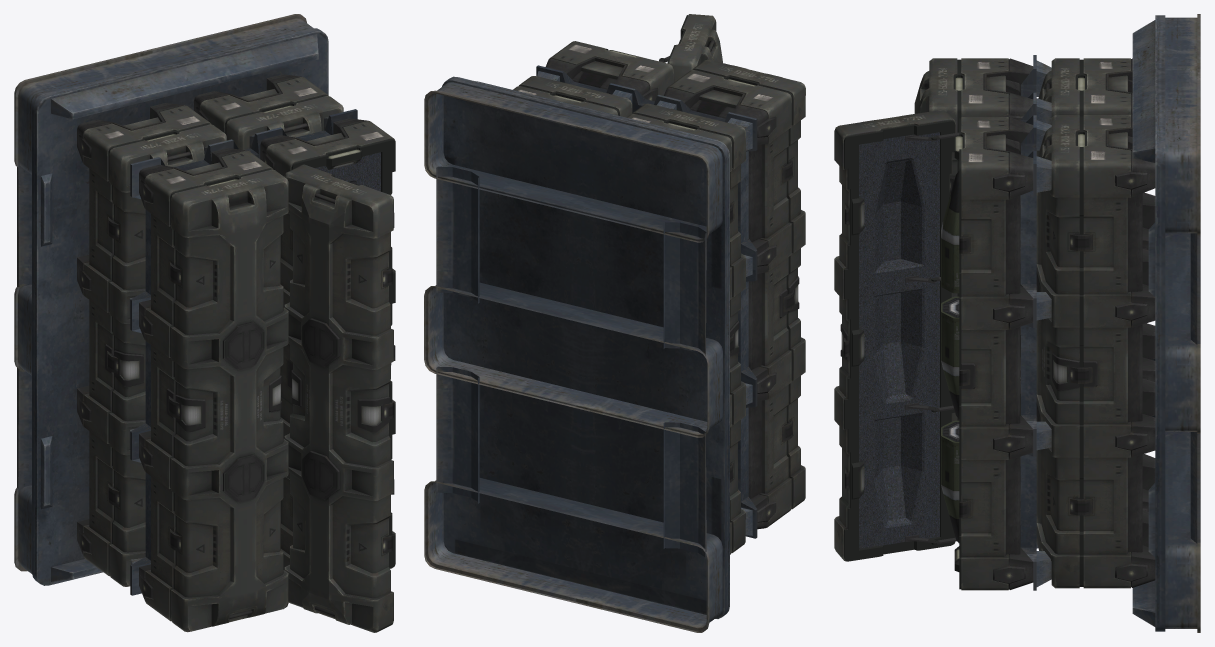
The model's file is p_glo_bomb_stack_LOD0.obj.
3 renders of one model, left to right at view 1: azimuth 30°, elevation 25°; view 2: azimuth 150°, elevation 25°; view 3: azimuth 270°, elevation 25°, orthographic. The views are drawn at different scales.
Parts seen in each view (by area): view 1: mtl_p_glo_bomb_stack_01, mtl_p_glo_bomb_stack_06, mtl_p_glo_bomb_stack_04; view 2: mtl_p_glo_bomb_stack_06, mtl_p_glo_bomb_stack_01; view 3: mtl_p_glo_bomb_stack_01, mtl_p_glo_bomb_stack_06, mtl_p_glo_bomb_stack_04, mtl_p_glo_bomb_stack_05.
Part boxes in pixels (left/top/right/bottom): mtl_p_glo_bomb_stack_01: left=77, top=74, right=395, bottom=632; mtl_p_glo_bomb_stack_06: left=14, top=14, right=357, bottom=595; mtl_p_glo_bomb_stack_04: left=315, top=152, right=380, bottom=191; mtl_p_glo_bomb_stack_06: left=424, top=65, right=757, bottom=632; mtl_p_glo_bomb_stack_01: left=513, top=14, right=805, bottom=554; mtl_p_glo_bomb_stack_01: left=834, top=58, right=1155, bottom=590; mtl_p_glo_bomb_stack_06: left=1020, top=14, right=1200, bottom=632; mtl_p_glo_bomb_stack_04: left=859, top=132, right=939, bottom=548; mtl_p_glo_bomb_stack_05: left=941, top=171, right=959, bottom=542.
Size of the model in its own units: 130 by 209 by 142.
